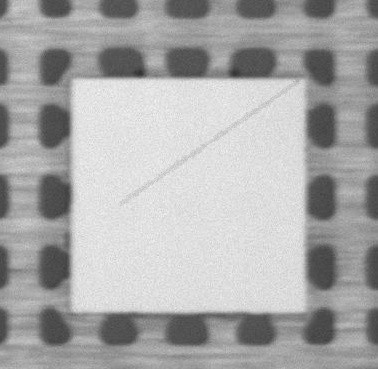DIE_CRACK: (123, 79, 306, 199)
